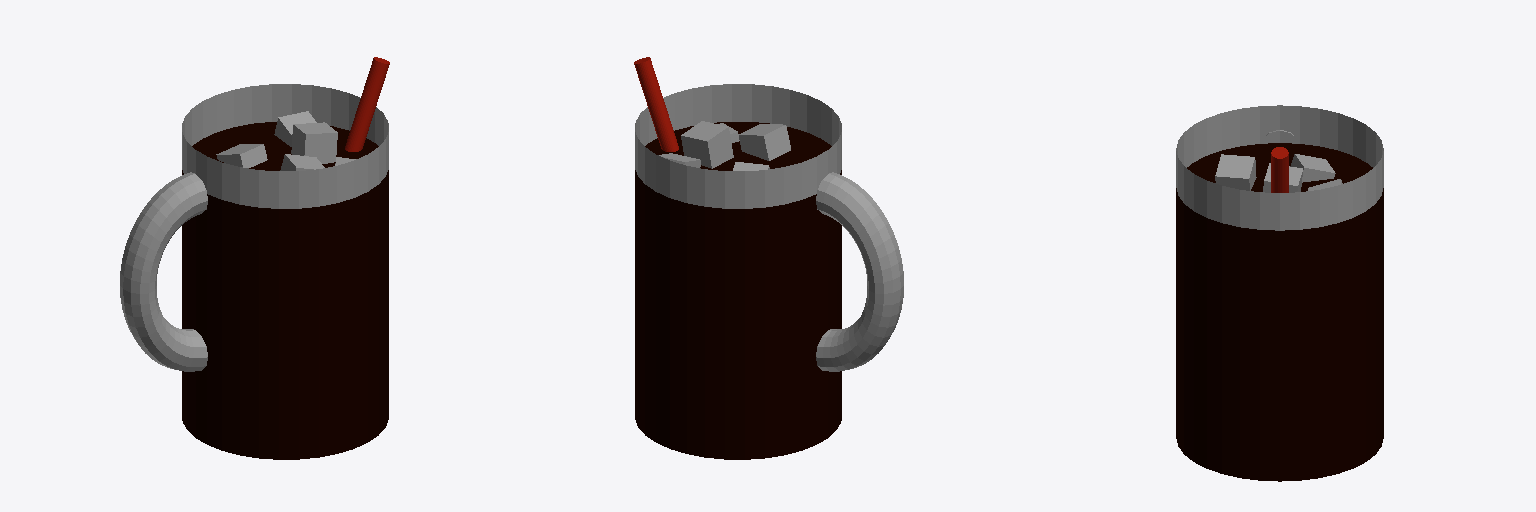
Rendered from kopi-o-kosong.obj.
3 views of the same model, side by side, from view 1: azimuth 30°, elevation 25°; view 2: azimuth 150°, elevation 25°; view 3: azimuth 270°, elevation 25° (orthographic).
Visible parts, largest first — view 1: Cylinder, Torus, Cylinder.001, Cube.002_Cube.003, Cube.001_Cube.002, Cube.003_Cube.004, Cube_Cube.001; view 2: Cylinder, Torus, Cube.002_Cube.003, Cylinder.001, Cube_Cube.001; view 3: Cylinder, Cube_Cube.001, Cube.001_Cube.002, Cylinder.001.
Part boxes in pixels (left/top/right/bottom): Cylinder: left=182, top=84, right=388, bottom=459; Torus: left=120, top=172, right=207, bottom=371; Cylinder.001: left=345, top=57, right=389, bottom=151; Cube.002_Cube.003: left=291, top=122, right=337, bottom=163; Cube.001_Cube.002: left=216, top=144, right=267, bottom=167; Cube.003_Cube.004: left=274, top=111, right=316, bottom=146; Cube_Cube.001: left=280, top=154, right=324, bottom=170; Cylinder: left=635, top=84, right=841, bottom=459; Torus: left=816, top=172, right=903, bottom=371; Cube.002_Cube.003: left=681, top=121, right=733, bottom=168; Cylinder.001: left=634, top=57, right=678, bottom=151; Cube_Cube.001: left=739, top=124, right=790, bottom=160; Cylinder: left=1176, top=105, right=1383, bottom=481; Cube_Cube.001: left=1215, top=154, right=1256, bottom=190; Cube.001_Cube.002: left=1290, top=154, right=1335, bottom=182; Cylinder.001: left=1271, top=147, right=1288, bottom=192.
Bounding box in the file's own units: 1.77 × 2.13 × 1.2.